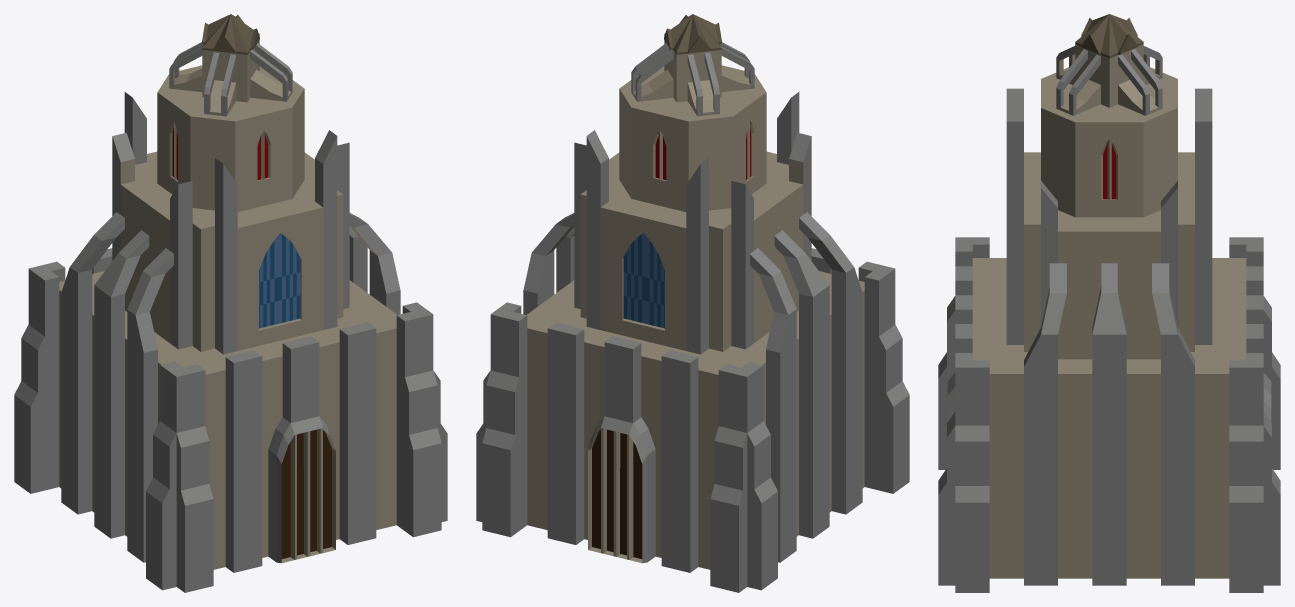
The model's file is CitaedlFinal.fbx.
3 renders of one model, left to right at view 1: azimuth 30°, elevation 25°; view 2: azimuth 150°, elevation 25°; view 3: azimuth 270°, elevation 25°, orthographic. The views are drawn at different scales.
Parts seen in each view (by area): view 1: Plane.017; view 2: Plane.017; view 3: Plane.017.
Part boxes in pixels (<box>): Plane.017: <box>14,14,447,592</box>; Plane.017: <box>476,14,909,592</box>; Plane.017: <box>938,14,1280,592</box>.
Size of the model in its own units: 43.75 by 71.42 by 43.75.
